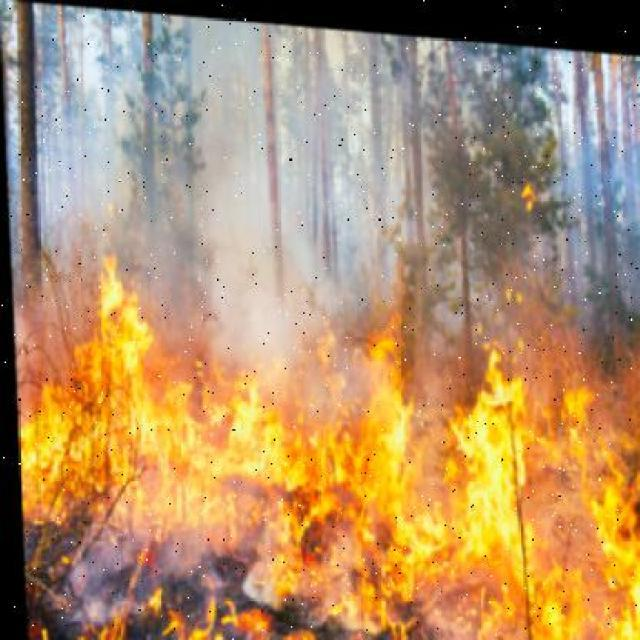Fire: (292, 396, 528, 618), (20, 358, 289, 506), (536, 416, 630, 636), (382, 332, 586, 392), (90, 266, 164, 360)
